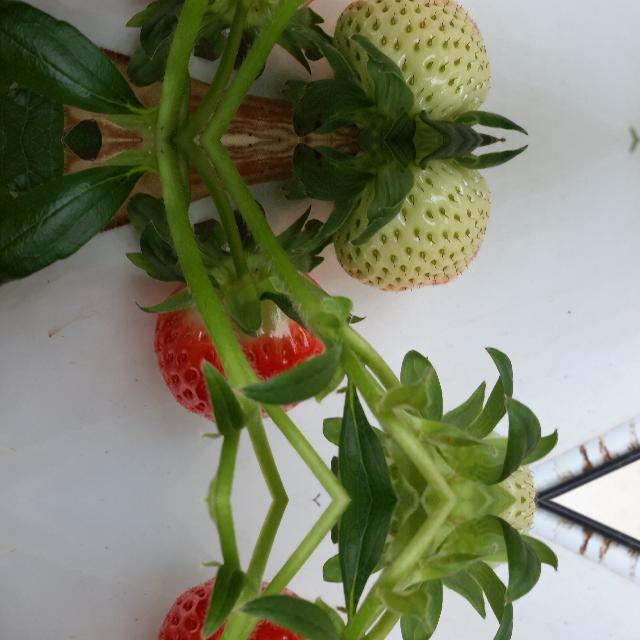Health_100: (153, 273, 323, 423), (153, 577, 323, 640)
Health_50: (336, 147, 490, 291), (335, 0, 490, 133)
